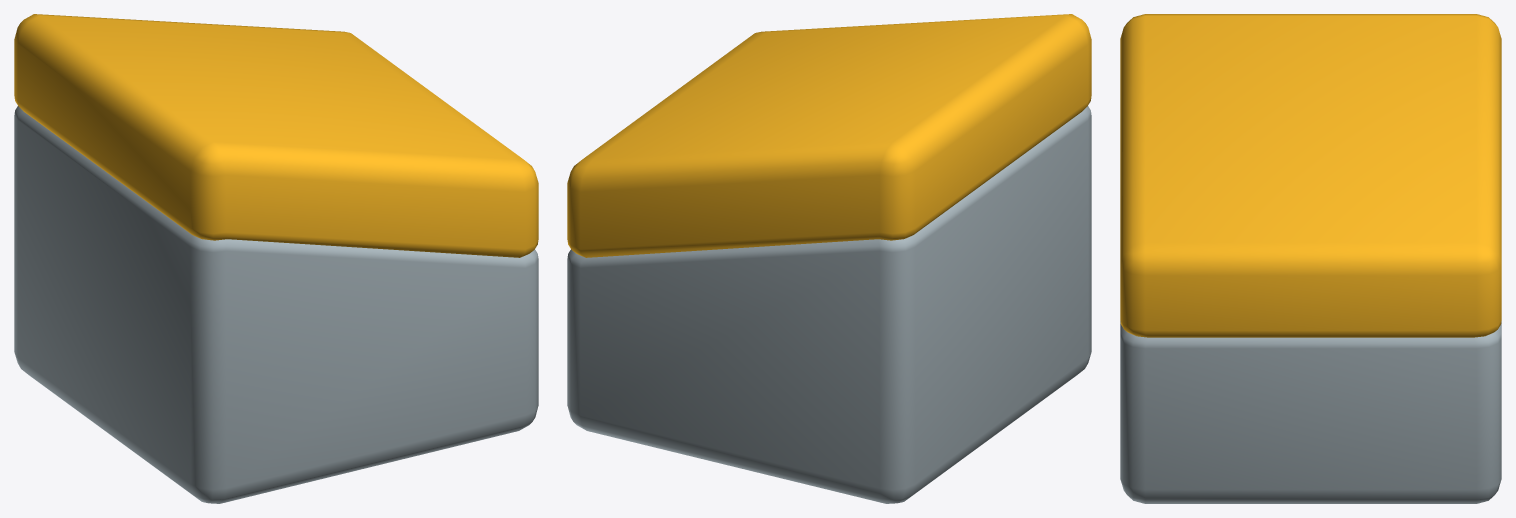
The model's file is tileSlopeMediumHigh_teamYellow.gltf.glb.
The picture shows the model from 3 angles, left to right: view 1: azimuth 30°, elevation 25°; view 2: azimuth 150°, elevation 25°; view 3: azimuth 270°, elevation 25°; orthographic projection. The views are drawn at different scales.
Visible parts, largest first — view 1: tileSlopeMediumHigh_forest.001; view 2: tileSlopeMediumHigh_forest.001; view 3: tileSlopeMediumHigh_forest.001.
Boxes of the visible parts, <box> form: tileSlopeMediumHigh_forest.001: <box>14,14,538,503</box>; tileSlopeMediumHigh_forest.001: <box>567,14,1091,503</box>; tileSlopeMediumHigh_forest.001: <box>1120,14,1501,503</box>.
Bounding box in the file's own units: 2 × 2 × 2.
